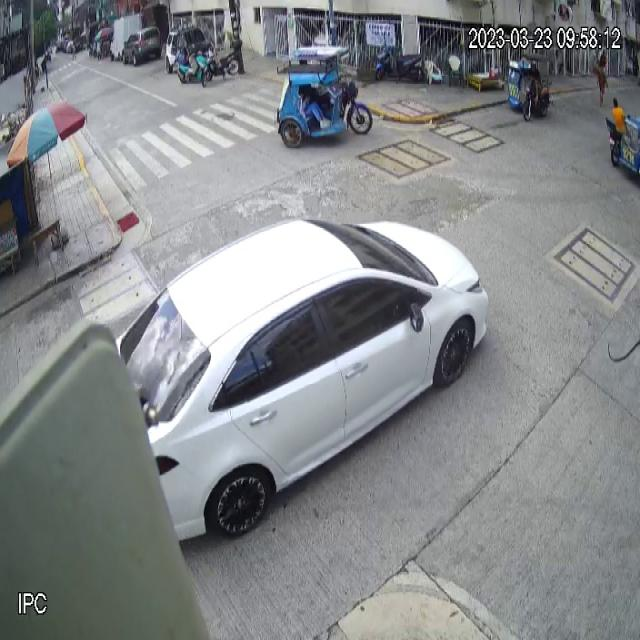Car: (117, 218, 490, 542)
Tricycle: (275, 45, 373, 151), (507, 51, 552, 120)
